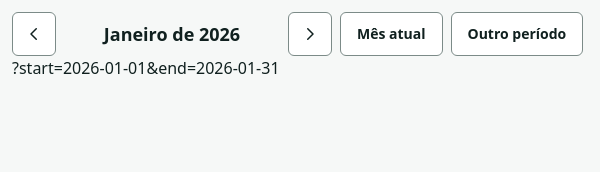
Test case: PeriodFilter › crosses the year when stepping back from January
Expected: the text "Janeiro de 2026" is shown, [104,22,240,46]
Click the button named "Mês anterior" at (34, 34), box [12,12,56,56]
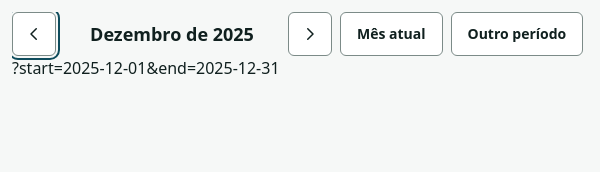
Now the text "Dezembro de 2025" is shown, box [90,22,254,46]
Now the text with test id "search" reads "?start=2025-12-01&end=2025-12-31", box [12,57,280,79]
